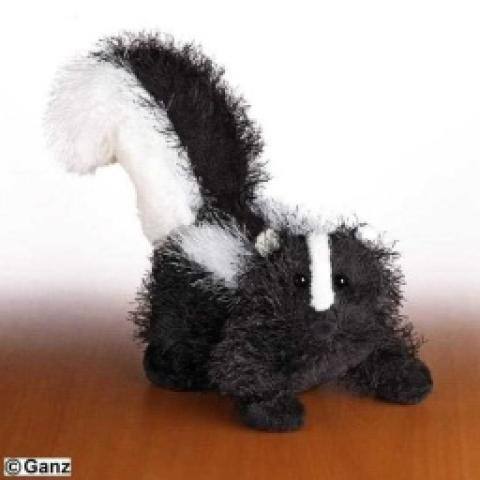small_animal: (39, 26, 435, 433)
